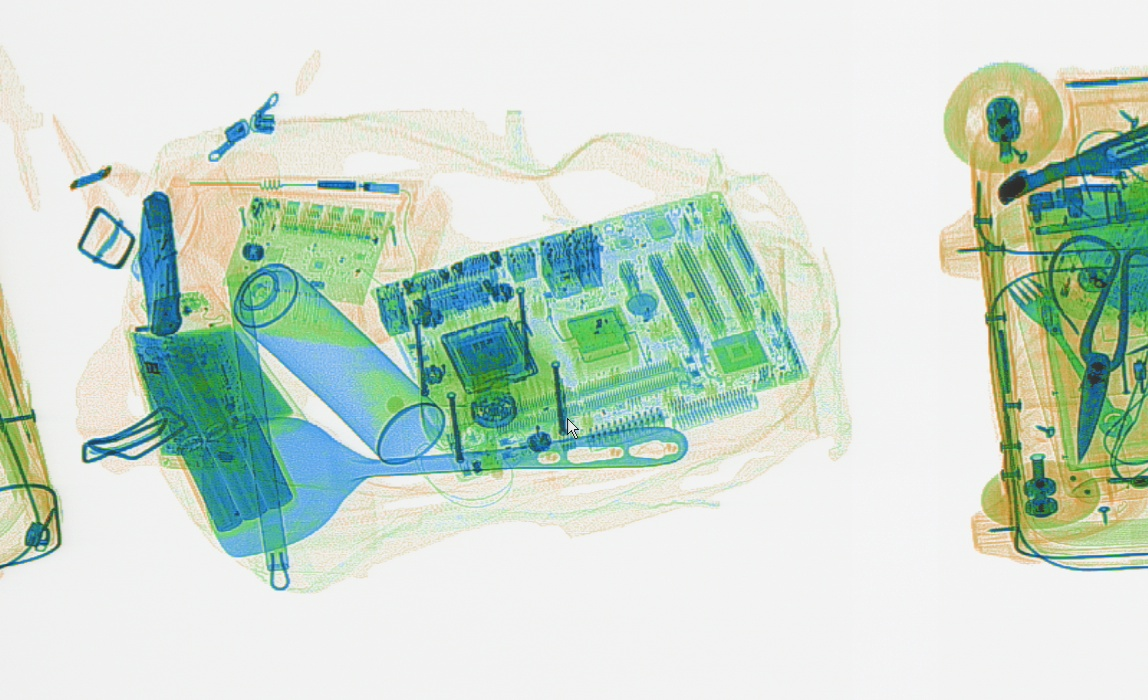knife: (995, 119, 1145, 208), (133, 188, 183, 339)
lighter: (1040, 239, 1091, 335)
powerbank: (129, 329, 295, 532)
pressure: (230, 258, 447, 465)
scissors: (1045, 231, 1145, 463)
